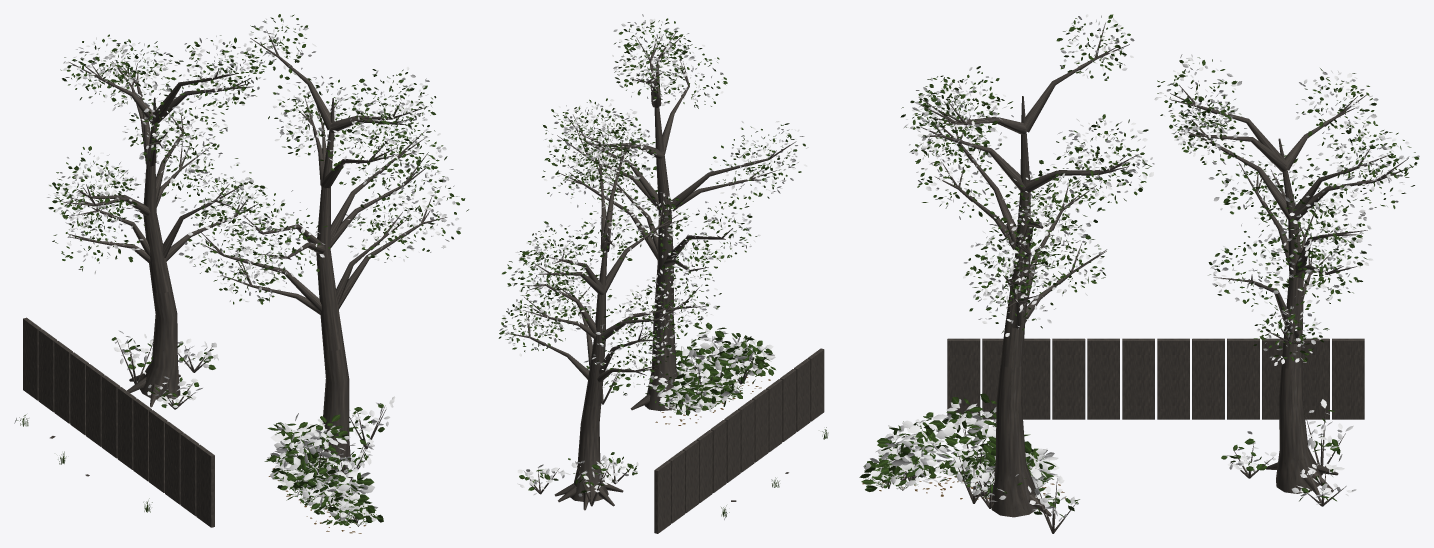
File: SM_Env_Tile_p2_m1.fbx
3 renders of one model, left to right at view 1: azimuth 30°, elevation 25°; view 2: azimuth 150°, elevation 25°; view 3: azimuth 270°, elevation 25°, orthographic. The views are drawn at different scales.
Parts seen in each view (by area): view 1: SM_Env_Tile_p2_m1; view 2: SM_Env_Tile_p2_m1; view 3: SM_Env_Tile_p2_m1.
Part boxes in pixels (left/top/right/bottom): SM_Env_Tile_p2_m1: left=14, top=14, right=468, bottom=533; SM_Env_Tile_p2_m1: left=498, top=14, right=828, bottom=533; SM_Env_Tile_p2_m1: left=859, top=14, right=1419, bottom=533.
Size of what is drawn, in the model's own units: 1233 by 1604 by 1512.
8 materials, 3 textured.
